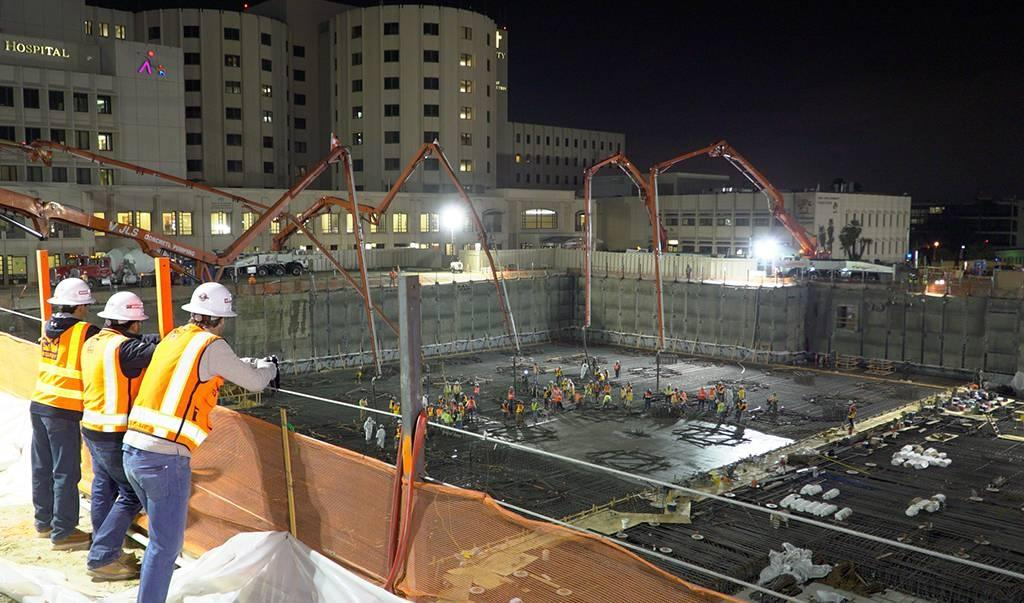Helmet: (180, 282, 238, 324), (45, 278, 97, 314), (99, 292, 150, 327)
Vest: (136, 327, 223, 444), (82, 333, 139, 434), (33, 322, 85, 413)
